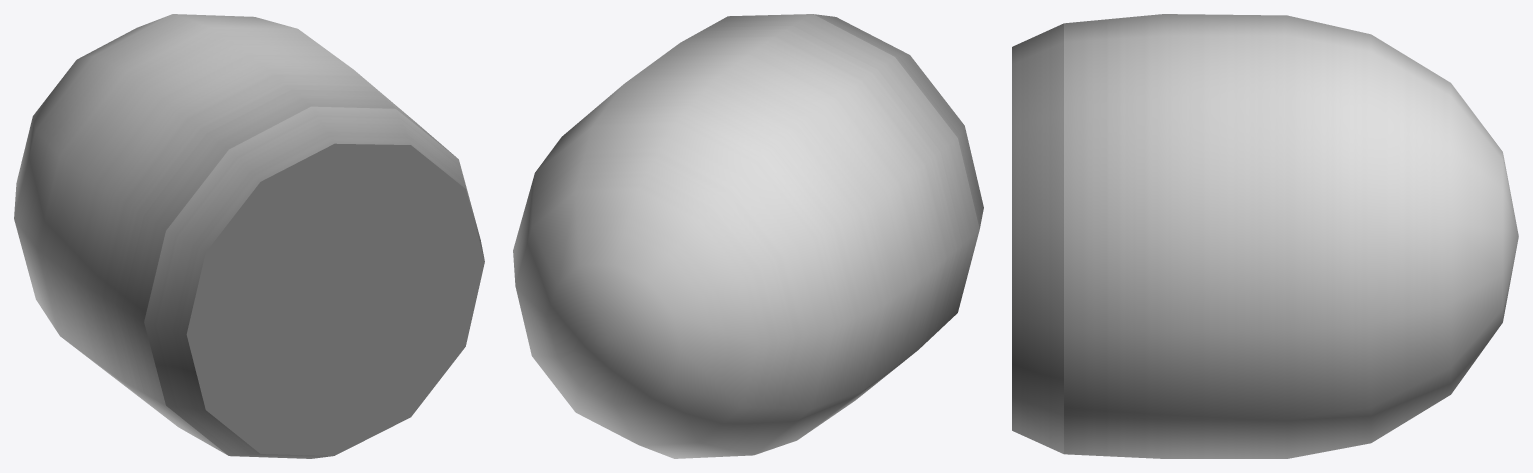
The model's file is Cannon 1 Bullet.fbx.
3 renders of one model, left to right at view 1: azimuth 30°, elevation 25°; view 2: azimuth 150°, elevation 25°; view 3: azimuth 270°, elevation 25°, orthographic. The views are drawn at different scales.
Visible parts, largest first — view 1: Cannon_1_Bullet; view 2: Cannon_1_Bullet; view 3: Cannon_1_Bullet.
Boxes of the visible parts, bbox=[...] form: Cannon_1_Bullet: bbox=[14, 14, 484, 458]; Cannon_1_Bullet: bbox=[513, 14, 983, 458]; Cannon_1_Bullet: bbox=[1012, 14, 1518, 458].
Bounding box in the file's own units: 36.15 × 36.15 × 41.09.
1 material, 1 textured.
